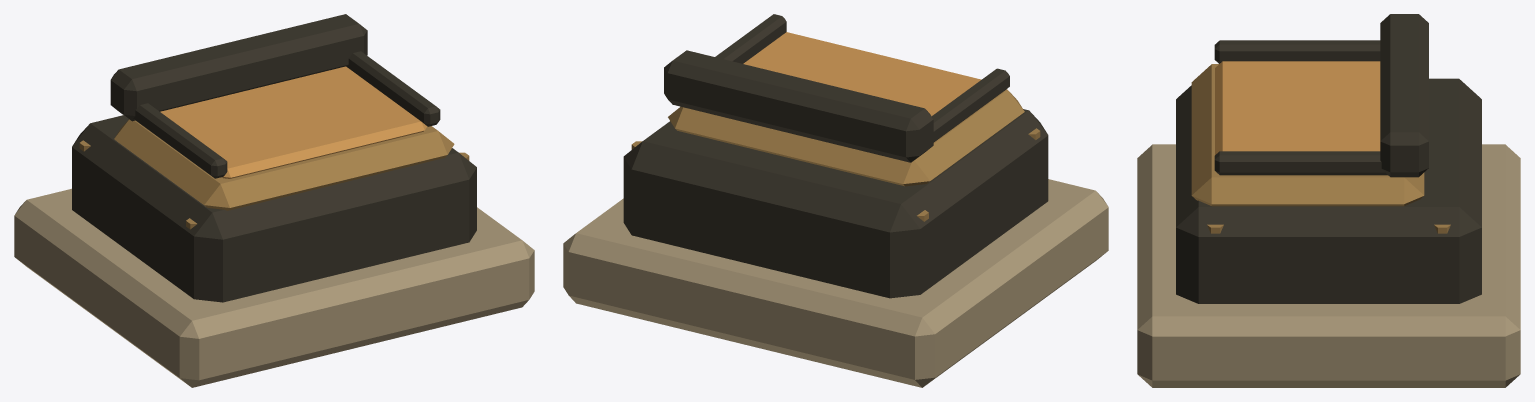
File: w11a-obelisk-uplight.glb
3 renders of one model, left to right at view 1: azimuth 30°, elevation 25°; view 2: azimuth 150°, elevation 25°; view 3: azimuth 270°, elevation 25°, orthographic. The views are drawn at different scales.
Parts seen in each view (by area): view 1: Hooded obelisk uplight; view 2: Hooded obelisk uplight; view 3: Hooded obelisk uplight.
Boxes of the visible parts, x1,y1,x2,y2 form: Hooded obelisk uplight: (14,14,534,387); Hooded obelisk uplight: (563,14,1108,387); Hooded obelisk uplight: (1137,14,1520,387).
Size of the model in its own units: 0.52 by 0.3005 by 0.456.
